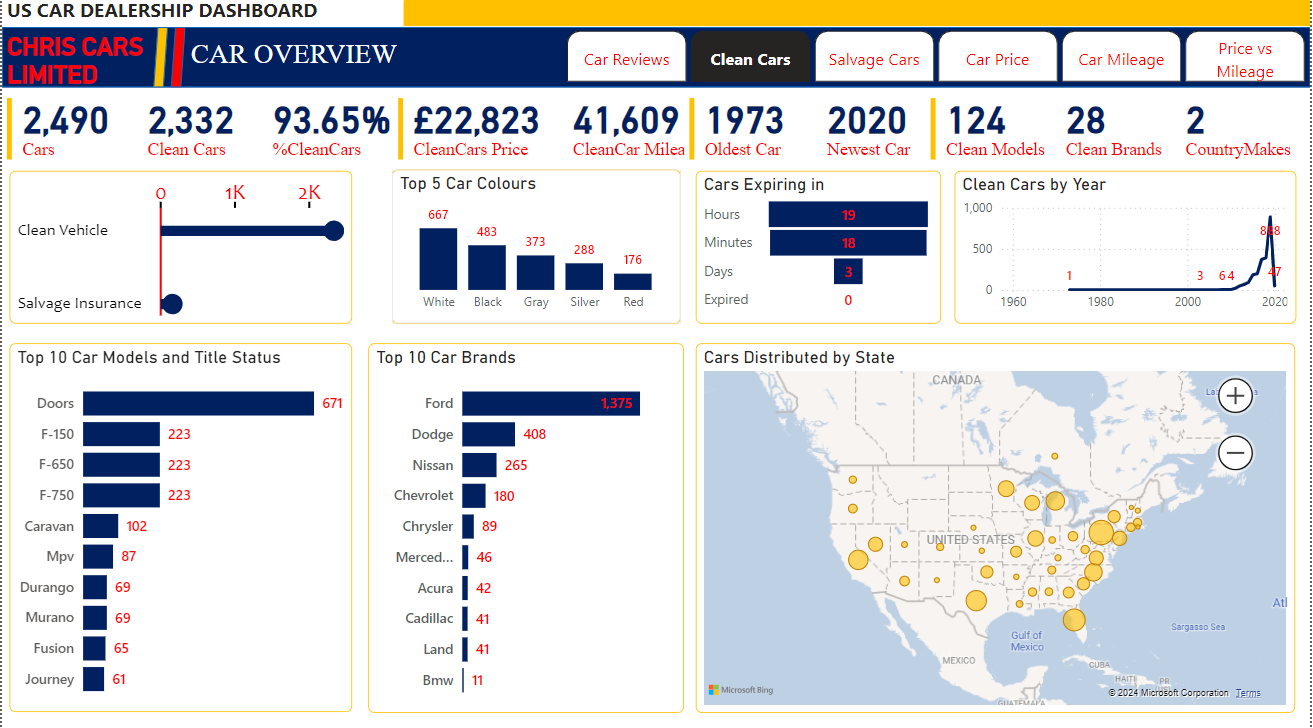

The dashboard page shown, as its layout file describes it:
{"tool":"powerbi","page":{"name":"Clean Cars","canvas":[1280,720],"ordinal":1},"visuals":[{"type":"shape","box":[392.1,0,887.9,33.8],"z":0},{"type":"shape","box":[148.4,33.8,14.5,59.1],"z":0,"group":"g1"},{"type":"shape","box":[0,33.8,1280,59.1],"z":1000},{"type":"shape","box":[165.3,33.8,14.5,59.1],"z":1000,"group":"g1"},{"type":"textbox","box":[0,0,400.5,45.8],"z":2000},{"type":"textbox","box":[179.8,39.8,220.8,53.1],"z":3000},{"type":"multiRowCard","fields":{"Values":["My Measures.Cars","My Measures.Clean Cars","My Measures.%CleanCars"]},"box":[0,98.9,392.1,76],"z":4000},{"type":"multiRowCard","fields":{"Values":["My Measures.CleanCars Price","My Measures.CleanCar Mileage"]},"box":[382.4,98.9,336.6,76],"z":5000},{"type":"multiRowCard","fields":{"Values":["My Measures.Oldest CleanCar","My Measures.Newest CleanCar"]},"box":[667.2,98.9,264.2,76],"z":6000},{"type":"multiRowCard","fields":{"Values":["My Measures.Clean Models","My Measures.Clean CarBrands","My Measures.CountryMakes"]},"box":[903.6,98.9,376.4,76],"z":7000},{"type":"dotChart6B967E5FFF8E4679BF7C4102B3F6171F","fields":{"category":["USA_Cars_Facts.Title_status"],"value":["My Measures.Cars"]},"box":[7.2,174.9,335.4,149.6],"z":8000},{"type":"barChart","title":"Top 10 Car Models and Title Status","fields":{"Category":["Car Model.Model"],"Y":["My Measures.Clean Cars"]},"box":[7.2,343.8,335.4,360.7],"z":9000},{"type":"clusteredBarChart","title":"Top 10 Car Brands","fields":{"Category":["Car Brands.Brand"],"Y":["My Measures.Clean Cars"]},"box":[358.3,343.8,308.8,361.9],"z":10000},{"type":"clusteredColumnChart","title":"Top 5 Car Colours","fields":{"Category":["Car Color.Color"],"Y":["My Measures.Clean Cars"]},"box":[381.2,173.7,282.3,150.8],"z":11000},{"type":"map","title":"Cars Distributed by State","fields":{"Category":["Car States.State"],"Size":["My Measures.Clean Cars"]},"box":[679.2,343.8,586.3,361.9],"z":12000},{"type":"funnel","title":"Cars Expiring in","fields":{"Category":["USA_Cars_Facts.Expiring in"],"Y":["My Measures.CleanCar Expiration"]},"box":[679.2,174.9,240.1,149.6],"z":13000},{"type":"lineChart","fields":{"Category":["USA_Cars_Facts.Year"],"Y":["My Measures.Clean Cars"]},"box":[931.4,174.9,334.2,149.6],"z":14000},{"type":"textbox","box":[0,33.8,170.1,73.6],"z":15000},{"type":"group","id":"g1","title":"Group 1","box":[148.4,33.8,31.4,59.1],"z":16000},{"type":"pageNavigator","box":[552.4,37.9,727.6,50.1],"z":17000}]}

Visuals, with their boxes in screenshot pixels (x1, y1, x2, y2), scaled from the page's 1280x720 canvas onto the 1313x728 screenshot:
shape: {"left": 402, "top": 0, "right": 1312, "bottom": 34}
shape: {"left": 152, "top": 34, "right": 167, "bottom": 94}
shape: {"left": 0, "top": 34, "right": 1312, "bottom": 94}
shape: {"left": 170, "top": 34, "right": 184, "bottom": 94}
textbox: {"left": 0, "top": 0, "right": 411, "bottom": 46}
textbox: {"left": 184, "top": 40, "right": 411, "bottom": 94}
multiRowCard - My Measures.Cars x My Measures.Clean Cars: {"left": 0, "top": 100, "right": 402, "bottom": 177}
multiRowCard - My Measures.CleanCars Price x My Measures.CleanCar Mileage: {"left": 392, "top": 100, "right": 738, "bottom": 177}
multiRowCard - My Measures.Oldest CleanCar x My Measures.Newest CleanCar: {"left": 684, "top": 100, "right": 955, "bottom": 177}
multiRowCard - My Measures.Clean Models x My Measures.Clean CarBrands: {"left": 927, "top": 100, "right": 1312, "bottom": 177}
dotChart6B967E5FFF8E4679BF7C4102B3F6171F - USA_Cars_Facts.Title_status x My Measures.Cars: {"left": 7, "top": 177, "right": 351, "bottom": 328}
"Top 10 Car Models and Title Status" barChart: {"left": 7, "top": 348, "right": 351, "bottom": 712}
"Top 10 Car Brands" clusteredBarChart: {"left": 368, "top": 348, "right": 684, "bottom": 714}
"Top 5 Car Colours" clusteredColumnChart: {"left": 391, "top": 176, "right": 681, "bottom": 328}
"Cars Distributed by State" map: {"left": 697, "top": 348, "right": 1298, "bottom": 714}
"Cars Expiring in" funnel: {"left": 697, "top": 177, "right": 943, "bottom": 328}
lineChart - USA_Cars_Facts.Year x My Measures.Clean Cars: {"left": 955, "top": 177, "right": 1298, "bottom": 328}
textbox: {"left": 0, "top": 34, "right": 174, "bottom": 109}
"Group 1" group: {"left": 152, "top": 34, "right": 184, "bottom": 94}
pageNavigator: {"left": 567, "top": 38, "right": 1312, "bottom": 89}
